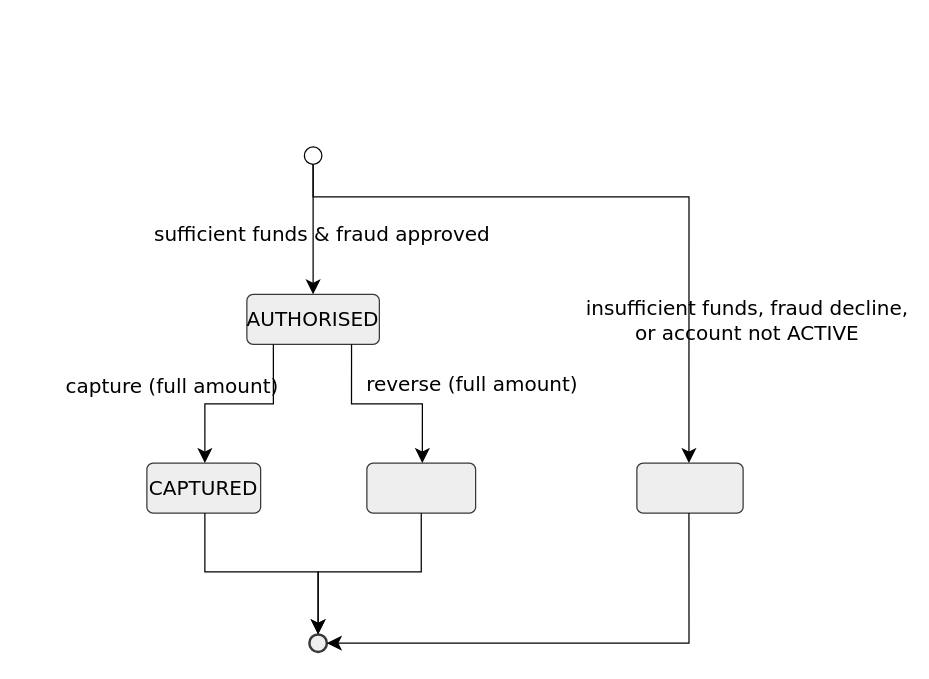
Image size: 929x679. Some labels were removed from this diagram. The centre of each missing label's shape, as x and y in pixels:
"DECLINED" goes at (x=689, y=487).
"REVERSED" goes at (x=421, y=487).
